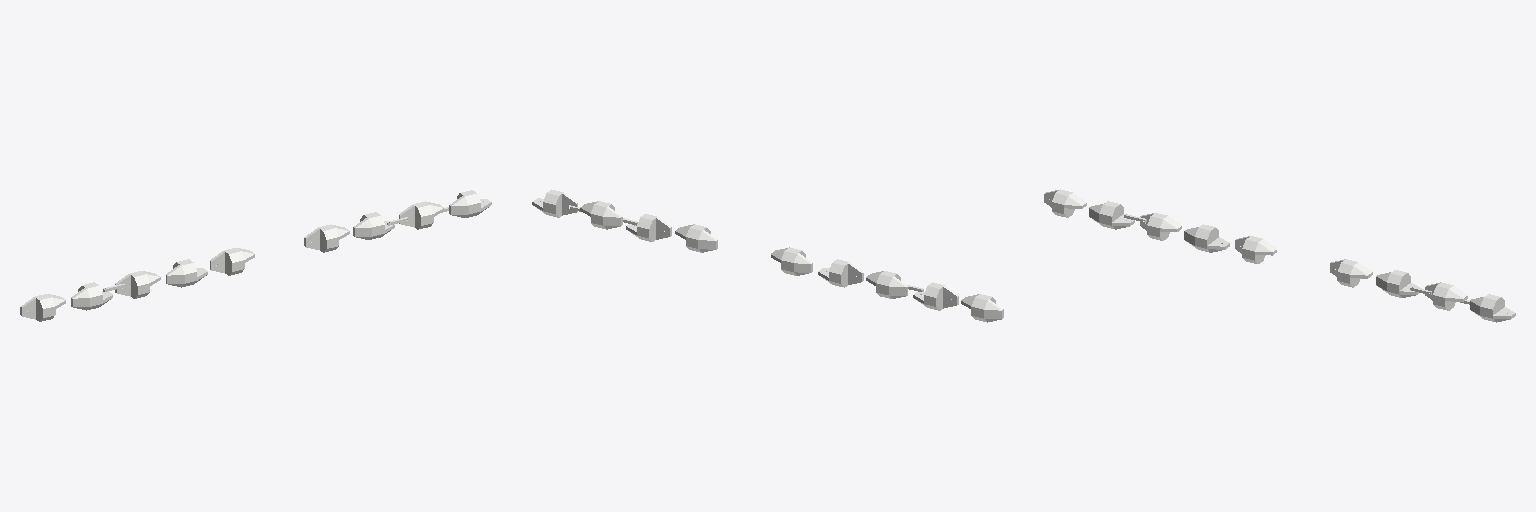
--- What the picture shows (computed from the rendered views, not written in the file) ---
The picture shows the robot from 3 angles, left to right: view 1: azimuth 30°, elevation 25°; view 2: azimuth 150°, elevation 25°; view 3: azimuth 330°, elevation 25°; orthographic projection.
Robot: NEKEespelhado — 19 links, 18 joints (18 revolute); root link base_link; default pose: every joint at zero.
Visible links, largest first — view 1: base_link, modulo5, modulo7, modulo3, modulo9, modulo10, modulo4, modulo2, modulo8; view 2: modulo4, modulo2, modulo8, base_link, modulo7, modulo5, modulo9, modulo3, modulo10; view 3: modulo4, modulo10, modulo2, modulo8, modulo7, base_link, modulo5, modulo9, modulo3.
Link boxes in pixels (box(x1,y1,x2,y2)): base_link: box(20, 294, 65, 321); modulo5: box(210, 248, 254, 275); modulo7: box(304, 224, 349, 252); modulo3: box(115, 271, 160, 298); modulo9: box(399, 201, 443, 229); modulo10: box(449, 190, 491, 217); modulo4: box(166, 259, 207, 287); modulo2: box(71, 282, 112, 310); modulo8: box(353, 212, 394, 239); modulo4: box(818, 259, 863, 287); modulo2: box(913, 282, 958, 310); modulo8: box(626, 214, 671, 241); base_link: box(961, 294, 1003, 322); modulo7: box(675, 224, 717, 252); modulo5: box(771, 247, 812, 275); modulo9: box(580, 201, 622, 229); modulo3: box(866, 271, 907, 298); modulo10: box(532, 189, 577, 217); modulo4: box(1184, 224, 1229, 252); modulo10: box(1470, 294, 1515, 322); modulo2: box(1089, 201, 1134, 229); modulo8: box(1376, 270, 1421, 297); modulo7: box(1330, 259, 1372, 287); base_link: box(1044, 189, 1086, 217); modulo5: box(1235, 236, 1276, 263); modulo9: box(1425, 282, 1467, 310); modulo3: box(1140, 213, 1181, 240).
Bounding box of the posed robot: 1.79 × 0.09 × 0.08 m (x, y, z).
Meshes: 19 distinct files referenced, 12 mesh visuals loaded (12 binary STL); not drawn: 7 (reference not matched to a file when rendering).

robot.urdf — NEKEespelhado:
<?xml version="1.0" encoding="utf-8"?>
<!-- This URDF was automatically created by SolidWorks to URDF Exporter! Originally created by Stephen Brawner ([email redacted]) 
     Commit Version: 1.6.0-4-g7f85cfe  Build Version: 1.6.7995.38578
     For more information, please see http://wiki.ros.org/sw_urdf_exporter -->
<robot
  name="NEKEespelhado">
  <link
    name="base_link">
    <inertial>
      <origin
        xyz="0.024 -0.00477264007478968 0.00286022630648331"
        rpy="0 0 0" />
      <mass
        value="0.385204158177987" />
      <inertia
        ixx="0.000283262951837511"
        ixy="2.10601156242849E-05"
        ixz="-2.1060115624285E-05"
        iyy="0.000268459177416828"
        iyz="6.8736177728217E-21"
        izz="0.000268459177416828" />
    </inertial>
    <visual>
      <origin
        xyz="0 0 0"
        rpy="0 0 0" />
      <geometry>
        <mesh
          filename="package://NEKEespelhado/meshes/base_link.STL" />
      </geometry>
      <material
        name="">
        <color
          rgba="0.964705882352941 0.964705882352941 0.952941176470588 1" />
      </material>
    </visual>
    <collision>
      <origin
        xyz="0 0 0"
        rpy="0 0 0" />
      <geometry>
        <mesh
          filename="package://NEKEespelhado/meshes/base_link.STL" />
      </geometry>
    </collision>
  </link>
  <link
    name="barra1">
    <inertial>
      <origin
        xyz="0.034 0.005 -8.67361737988404E-19"
        rpy="0 0 0" />
      <mass
        value="0.00743451332235384" />
      <inertia
        ixx="1.27348599328245E-07"
        ixy="-4.79075438103629E-24"
        ixz="-2.22951024477183E-23"
        iyy="3.67536602194712E-06"
        iyz="-3.50812812321156E-24"
        izz="3.67536602194712E-06" />
    </inertial>
    <visual>
      <origin
        xyz="0 0 0"
        rpy="0 0 0" />
      <geometry>
        <mesh
          filename="package://NEKEespelhado/meshes/barra1.STL" />
      </geometry>
      <material
        name="">
        <color
          rgba="0.964705882352941 0.964705882352941 0.952941176470588 1" />
      </material>
    </visual>
    <collision>
      <origin
        xyz="0 0 0"
        rpy="0 0 0" />
      <geometry>
        <mesh
          filename="package://NEKEespelhado/meshes/barra1.STL" />
      </geometry>
    </collision>
  </link>
  <joint
    name="yaw1"
    type="revolute">
    <origin
      xyz="0.08065 -0.0076329 -0.005"
      rpy="1.5708 0 0" />
    <parent
      link="base_link" />
    <child
      link="barra1" />
    <axis
      xyz="0 1 0" />
    <limit
      lower="0"
      upper="0"
      effort="0"
      velocity="0" />
  </joint>
  <link
    name="modulo2">
    <inertial>
      <origin
        xyz="0.05665 -0.00286022630648332 0.00786022630648332"
        rpy="0 0 0" />
      <mass
        value="0.385204158177987" />
      <inertia
        ixx="0.000283262951837511"
        ixy="2.1060115624285E-05"
        ixz="2.1060115624285E-05"
        iyy="0.000268459177416828"
        iyz="-1.90014782821109E-21"
        izz="0.000268459177416828" />
    </inertial>
    <visual>
      <origin
        xyz="0 0 0"
        rpy="0 0 0" />
      <geometry>
        <mesh
          filename="package://NEKEespelhado/meshes/modulo2.STL" />
      </geometry>
      <material
        name="">
        <color
          rgba="0.964705882352941 0.964705882352941 0.952941176470588 1" />
      </material>
    </visual>
    <collision>
      <origin
        xyz="0 0 0"
        rpy="0 0 0" />
      <geometry>
        <mesh
          filename="package://NEKEespelhado/meshes/modulo2.STL" />
      </geometry>
    </collision>
  </link>
  <joint
    name="pitch1"
    type="revolute">
    <origin
      xyz="0.068 0.005 -0.005"
      rpy="0 0 0" />
    <parent
      link="barra1" />
    <child
      link="modulo2" />
    <axis
      xyz="0 0 1" />
    <limit
      lower="0"
      upper="0"
      effort="0"
      velocity="0" />
  </joint>
  <link
    name="barra2">
    <inertial>
      <origin
        xyz="0.034 -0.005 -8.67361737988404E-19"
        rpy="0 0 0" />
      <mass
        value="0.00743451332235383" />
      <inertia
        ixx="1.27348599328245E-07"
        ixy="1.03294178992559E-22"
        ixz="-8.77263813703699E-23"
        iyy="3.67536602194712E-06"
        iyz="8.82325986723229E-24"
        izz="3.67536602194712E-06" />
    </inertial>
    <visual>
      <origin
        xyz="0 0 0"
        rpy="0 0 0" />
      <geometry>
        <mesh
          filename="package://NEKEespelhado/meshes/barra2.STL" />
      </geometry>
      <material
        name="">
        <color
          rgba="0.964705882352941 0.964705882352941 0.952941176470588 1" />
      </material>
    </visual>
    <collision>
      <origin
        xyz="0 0 0"
        rpy="0 0 0" />
      <geometry>
        <mesh
          filename="package://NEKEespelhado/meshes/barra2.STL" />
      </geometry>
    </collision>
  </link>
  <joint
    name="yaw2"
    type="revolute">
    <origin
      xyz="0.1133 0.005 0.005"
      rpy="0 0 0" />
    <parent
      link="modulo2" />
    <child
      link="barra2" />
    <axis
      xyz="0 1 0" />
    <limit
      lower="0"
      upper="0"
      effort="0"
      velocity="0" />
  </joint>
  <link
    name="modulo3">
    <inertial>
      <origin
        xyz="0.05665 0.00286022630648331 -0.00786022630648332"
        rpy="0 0 0" />
      <mass
        value="0.385204158177987" />
      <inertia
        ixx="0.000283262951837511"
        ixy="-2.1060115624285E-05"
        ixz="-2.1060115624285E-05"
        iyy="0.000268459177416828"
        iyz="-1.0998271741934E-20"
        izz="0.000268459177416828" />
    </inertial>
    <visual>
      <origin
        xyz="0 0 0"
        rpy="0 0 0" />
      <geometry>
        <mesh
          filename="package://NEKEespelhado/meshes/modulo3.STL" />
      </geometry>
      <material
        name="">
        <color
          rgba="0.964705882352941 0.964705882352941 0.952941176470588 1" />
      </material>
    </visual>
    <collision>
      <origin
        xyz="0 0 0"
        rpy="0 0 0" />
      <geometry>
        <mesh
          filename="package://NEKEespelhado/meshes/modulo3.STL" />
      </geometry>
    </collision>
  </link>
  <joint
    name="pitch2"
    type="revolute">
    <origin
      xyz="0.068 -0.005 0.005"
      rpy="0 0 0" />
    <parent
      link="barra2" />
    <child
      link="modulo3" />
    <axis
      xyz="0 0 1" />
    <limit
      lower="0"
      upper="0"
      effort="0"
      velocity="0" />
  </joint>
  <link
    name="barra3">
    <inertial>
      <origin
        xyz="0.034 0.005 -8.67361737988404E-19"
        rpy="0 0 0" />
      <mass
        value="0.00743451332235383" />
      <inertia
        ixx="1.27348599328245E-07"
        ixy="1.03294178992559E-22"
        ixz="-8.80494987971485E-23"
        iyy="3.67536602194712E-06"
        iyz="8.82325986723229E-24"
        izz="3.67536602194712E-06" />
    </inertial>
    <visual>
      <origin
        xyz="0 0 0"
        rpy="0 0 0" />
      <geometry>
        <mesh
          filename="package://NEKEespelhado/meshes/barra3.STL" />
      </geometry>
      <material
        name="">
        <color
          rgba="0.964705882352941 0.964705882352941 0.952941176470588 1" />
      </material>
    </visual>
    <collision>
      <origin
        xyz="0 0 0"
        rpy="0 0 0" />
      <geometry>
        <mesh
          filename="package://NEKEespelhado/meshes/barra3.STL" />
      </geometry>
    </collision>
  </link>
  <joint
    name="yaw3"
    type="revolute">
    <origin
      xyz="0.1133 -0.005 -0.005"
      rpy="0 0 0" />
    <parent
      link="modulo3" />
    <child
      link="barra3" />
    <axis
      xyz="0 1 0" />
    <limit
      lower="0"
      upper="0"
      effort="0"
      velocity="0" />
  </joint>
  <link
    name="modulo4">
    <inertial>
      <origin
        xyz="0.0566500000000001 -0.00286022630648331 0.00786022630648332"
        rpy="0 0 0" />
      <mass
        value="0.385204158177987" />
      <inertia
        ixx="0.000283262951837511"
        ixy="2.10601156242849E-05"
        ixz="2.1060115624285E-05"
        iyy="0.000268459177416828"
        iyz="4.56198332687296E-21"
        izz="0.000268459177416828" />
    </inertial>
    <visual>
      <origin
        xyz="0 0 0"
        rpy="0 0 0" />
      <geometry>
        <mesh
          filename="package://NEKEespelhado/meshes/modulo4.STL" />
      </geometry>
      <material
        name="">
        <color
          rgba="0.964705882352941 0.964705882352941 0.952941176470588 1" />
      </material>
    </visual>
    <collision>
      <origin
        xyz="0 0 0"
        rpy="0 0 0" />
      <geometry>
        <mesh
          filename="package://NEKEespelhado/meshes/modulo4.STL" />
      </geometry>
    </collision>
  </link>
  <joint
    name="pitch3"
    type="revolute">
    <origin
      xyz="0.068 0.005 -0.005"
      rpy="0 0 0" />
    <parent
      link="barra3" />
    <child
      link="modulo4" />
    <axis
      xyz="0 0 1" />
    <limit
      lower="0"
      upper="0"
      effort="0"
      velocity="0" />
  </joint>
  <link
    name="barra4">
    <inertial>
      <origin
        xyz="0.034 -0.005 0"
        rpy="0 0 0" />
      <mass
        value="0.00743451332235385" />
      <inertia
        ixx="1.27348599328245E-07"
        ixy="-6.46234853557053E-24"
        ixz="-2.55262767155036E-23"
        iyy="3.67536602194713E-06"
        iyz="-5.31513174402073E-24"
        izz="3.67536602194713E-06" />
    </inertial>
    <visual>
      <origin
        xyz="0 0 0"
        rpy="0 0 0" />
      <geometry>
        <mesh
          filename="package://NEKEespelhado/meshes/barra4.STL" />
      </geometry>
      <material
        name="">
        <color
          rgba="0.964705882352941 0.964705882352941 0.952941176470588 1" />
      </material>
    </visual>
    <collision>
      <origin
        xyz="0 0 0"
        rpy="0 0 0" />
      <geometry>
        <mesh
          filename="package://NEKEespelhado/meshes/barra4.STL" />
      </geometry>
    </collision>
  </link>
  <joint
    name="yaw4"
    type="revolute">
    <origin
      xyz="0.1133 0.005 0.005"
      rpy="0 0 0" />
    <parent
      link="modulo4" />
    <child
      link="barra4" />
    <axis
      xyz="0 1 0" />
    <limit
      lower="0"
      upper="0"
      effort="0"
      velocity="0" />
  </joint>
  <link
    name="modulo5">
    <inertial>
      <origin
        xyz="0.05665 0.00286022630648331 -0.00786022630648332"
        rpy="0 0 0" />
      <mass
        value="0.385204158177987" />
      <inertia
        ixx="0.000283262951837511"
        ixy="-2.10601156242851E-05"
        ixz="-2.10601156242849E-05"
        iyy="0.000268459177416828"
        iyz="-8.65454965661702E-21"
        izz="0.000268459177416828" />
    </inertial>
    <visual>
      <origin
        xyz="0 0 0"
        rpy="0 0 0" />
      <geometry>
        <mesh
          filename="package://NEKEespelhado/meshes/modulo5.STL" />
      </geometry>
      <material
        name="">
        <color
          rgba="0.964705882352941 0.964705882352941 0.952941176470588 1" />
      </material>
    </visual>
    <collision>
      <origin
        xyz="0 0 0"
        rpy="0 0 0" />
      <geometry>
        <mesh
          filename="package://NEKEespelhado/meshes/modulo5.STL" />
      </geometry>
    </collision>
  </link>
  <joint
    name="pitch4"
    type="revolute">
    <origin
      xyz="0.068 -0.005 0.005"
      rpy="0 0 0" />
    <parent
      link="barra4" />
    <child
      link="modulo5" />
    <axis
      xyz="0 0 1" />
    <limit
      lower="0"
      upper="0"
      effort="0"
      velocity="0" />
  </joint>
  <link
    name="barra5">
    <inertial>
      <origin
        xyz="0.034 0.005 0"
        rpy="0 0 0" />
      <mass
        value="0.00743451332235385" />
      <inertia
        ixx="1.27348599328245E-07"
        ixy="-6.46234853557053E-24"
        ixz="-2.58493941422821E-23"
        iyy="3.67536602194713E-06"
        iyz="-5.31513174402073E-24"
        izz="3.67536602194713E-06" />
    </inertial>
    <visual>
      <origin
        xyz="0 0 0"
        rpy="0 0 0" />
      <geometry>
        <mesh
          filename="package://NEKEespelhado/meshes/barra5.STL" />
      </geometry>
      <material
        name="">
        <color
          rgba="0.964705882352941 0.964705882352941 0.952941176470588 1" />
      </material>
    </visual>
    <collision>
      <origin
        xyz="0 0 0"
        rpy="0 0 0" />
      <geometry>
        <mesh
          filename="package://NEKEespelhado/meshes/barra5.STL" />
      </geometry>
    </collision>
  </link>
  <joint
    name="yaw5"
    type="revolute">
    <origin
      xyz="0.1133 -0.005 -0.005"
      rpy="0 0 0" />
    <parent
      link="modulo5" />
    <child
      link="barra5" />
    <axis
      xyz="0 1 0" />
    <limit
      lower="0"
      upper="0"
      effort="0"
      velocity="0" />
  </joint>
  <link
    name="modulo6">
    <inertial>
      <origin
        xyz="0.05665 -0.00286022630648331 0.00786022630648332"
        rpy="0 0 0" />
      <mass
        value="0.385204158177987" />
      <inertia
        ixx="0.000283262951837511"
        ixy="2.10601156242849E-05"
        ixz="2.1060115624285E-05"
        iyy="0.000268459177416828"
        iyz="-2.41678365154725E-21"
        izz="0.000268459177416828" />
    </inertial>
    <visual>
      <origin
        xyz="0 0 0"
        rpy="0 0 0" />
      <geometry>
        <mesh
          filename="package://NEKEespelhado/meshes/modulo6.STL" />
      </geometry>
      <material
        name="">
        <color
          rgba="0.964705882352941 0.964705882352941 0.952941176470588 1" />
      </material>
    </visual>
    <collision>
      <origin
        xyz="0 0 0"
        rpy="0 0 0" />
      <geometry>
        <mesh
          filename="package://NEKEespelhado/meshes/modulo6.STL" />
      </geometry>
    </collision>
  </link>
  <joint
    name="pitch5"
    type="revolute">
    <origin
      xyz="0.068 0.005 -0.005"
      rpy="0 0 0" />
    <parent
      link="barra5" />
    <child
      link="modulo6" />
    <axis
      xyz="0 0 1" />
    <limit
      lower="0"
      upper="0"
      effort="0"
      velocity="0" />
  </joint>
  <link
    name="barra6">
    <inertial>
      <origin
        xyz="0.034 -0.005 0"
        rpy="0 0 0" />
      <mass
        value="0.00743451332235385" />
      <inertia
        ixx="1.27348599328245E-07"
        ixy="-6.46234853557053E-24"
        ixz="-2.58493941422821E-23"
        iyy="3.67536602194713E-06"
        iyz="-5.31513174402073E-24"
        izz="3.67536602194713E-06" />
    </inertial>
    <visual>
      <origin
        xyz="0 0 0"
        rpy="0 0 0" />
      <geometry>
        <mesh
          filename="package://NEKEespelhado/meshes/barra6.STL" />
      </geometry>
      <material
        name="">
        <color
          rgba="0.964705882352941 0.964705882352941 0.952941176470588 1" />
      </material>
    </visual>
    <collision>
      <origin
        xyz="0 0 0"
        rpy="0 0 0" />
      <geometry>
        <mesh
          filename="package://NEKEespelhado/meshes/barra6.STL" />
      </geometry>
    </collision>
  </link>
  <joint
    name="yaw6"
    type="revolute">
    <origin
      xyz="0.1133 0.005 0.005"
      rpy="0 0 0" />
    <parent
      link="modulo6" />
    <child
      link="barra6" />
    <axis
      xyz="0 1 0" />
    <limit
      lower="0"
      upper="0"
      effort="0"
      velocity="0" />
  </joint>
  <link
    name="modulo7">
    <inertial>
      <origin
        xyz="0.0566500000000001 0.00286022630648331 -0.00786022630648332"
        rpy="0 0 0" />
      <mass
        value="0.385204158177987" />
      <inertia
        ixx="0.000283262951837511"
        ixy="-2.10601156242851E-05"
        ixz="-2.1060115624285E-05"
        iyy="0.000268459177416828"
        iyz="-2.43659556103781E-21"
        izz="0.000268459177416828" />
    </inertial>
    <visual>
      <origin
        xyz="0 0 0"
        rpy="0 0 0" />
      <geometry>
        <mesh
          filename="package://NEKEespelhado/meshes/modulo7.STL" />
      </geometry>
      <material
        name="">
        <color
          rgba="0.964705882352941 0.964705882352941 0.952941176470588 1" />
      </material>
    </visual>
    <collision>
      <origin
        xyz="0 0 0"
        rpy="0 0 0" />
      <geometry>
        <mesh
          filename="package://NEKEespelhado/meshes/modulo7.STL" />
      </geometry>
    </collision>
  </link>
  <joint
    name="pitch6"
    type="revolute">
    <origin
      xyz="0.068 -0.005 0.005"
      rpy="0 0 0" />
    <parent
      link="barra6" />
    <child
      link="modulo7" />
    <axis
      xyz="0 0 1" />
    <limit
      lower="0"
      upper="0"
      effort="0"
      velocity="0" />
  </joint>
  <link
    name="barra7">
    <inertial>
      <origin
        xyz="0.034 0.005 0"
        rpy="0 0 0" />
      <mass
        value="0.00743451332235385" />
      <inertia
        ixx="1.27348599328245E-07"
        ixy="-6.46234853557053E-24"
        ixz="-2.55262767155036E-23"
        iyy="3.67536602194713E-06"
        iyz="-5.31513174402073E-24"
        izz="3.67536602194713E-06" />
    </inertial>
    <visual>
      <origin
        xyz="0 0 0"
        rpy="0 0 0" />
      <geometry>
        <mesh
          filename="package://NEKEespelhado/meshes/barra7.STL" />
      </geometry>
      <material
        name="">
        <color
          rgba="0.964705882352941 0.964705882352941 0.952941176470588 1" />
      </material>
    </visual>
    <collision>
      <origin
        xyz="0 0 0"
        rpy="0 0 0" />
      <geometry>
        <mesh
          filename="package://NEKEespelhado/meshes/barra7.STL" />
      </geometry>
    </collision>
  </link>
  <joint
    name="yaw7"
    type="revolute">
    <origin
      xyz="0.1133 -0.005 -0.005"
      rpy="0 0 0" />
    <parent
      link="modulo7" />
    <child
      link="barra7" />
    <axis
      xyz="0 1 0" />
    <limit
      lower="0"
      upper="0"
      effort="0"
      velocity="0" />
  </joint>
  <link
    name="modulo8">
    <inertial>
      <origin
        xyz="0.0566499999999999 -0.00286022630648332 0.00786022630648332"
        rpy="0 0 0" />
      <mass
        value="0.385204158177987" />
      <inertia
        ixx="0.000283262951837511"
        ixy="2.1060115624285E-05"
        ixz="2.1060115624285E-05"
        iyy="0.000268459177416828"
        iyz="-8.38455983358071E-21"
        izz="0.000268459177416828" />
    </inertial>
    <visual>
      <origin
        xyz="0 0 0"
        rpy="0 0 0" />
      <geometry>
        <mesh
          filename="package://NEKEespelhado/meshes/modulo8.STL" />
      </geometry>
      <material
        name="">
        <color
          rgba="0.964705882352941 0.964705882352941 0.952941176470588 1" />
      </material>
    </visual>
    <collision>
      <origin
        xyz="0 0 0"
        rpy="0 0 0" />
      <geometry>
        <mesh
          filename="package://NEKEespelhado/meshes/modulo8.STL" />
      </geometry>
    </collision>
  </link>
  <joint
    name="pitch7"
    type="revolute">
    <origin
      xyz="0.068 0.005 -0.005"
      rpy="0 0 0" />
    <parent
      link="barra7" />
    <child
      link="modulo8" />
    <axis
      xyz="0 0 1" />
    <limit
      lower="0"
      upper="0"
      effort="0"
      velocity="0" />
  </joint>
  <link
    name="barra8">
    <inertial>
      <origin
        xyz="0.034 -0.005 0"
        rpy="0 0 0" />
      <mass
        value="0.00743451332235384" />
      <inertia
        ixx="1.27348599328245E-07"
        ixy="-6.46234853557053E-24"
        ixz="-2.58493941422821E-23"
        iyy="3.67536602194713E-06"
        iyz="-5.31513174402073E-24"
        izz="3.67536602194713E-06" />
    </inertial>
    <visual>
      <origin
        xyz="0 0 0"
        rpy="0 0 0" />
      <geometry>
        <mesh
          filename="package://NEKEespelhado/meshes/barra8.STL" />
      </geometry>
      <material
        name="">
        <color
          rgba="0.964705882352941 0.964705882352941 0.952941176470588 1" />
      </material>
    </visual>
    <collision>
      <origin
        xyz="0 0 0"
        rpy="0 0 0" />
      <geometry>
        <mesh
          filename="package://NEKEespelhado/meshes/barra8.STL" />
      </geometry>
    </collision>
  </link>
  <joint
    name="yaw8"
    type="revolute">
    <origin
      xyz="0.1133 0.005 0.005"
      rpy="0 0 0" />
    <parent
      link="modulo8" />
    <child
      link="barra8" />
    <axis
      xyz="0 1 0" />
    <limit
      lower="0"
      upper="0"
      effort="0"
      velocity="0" />
  </joint>
  <link
    name="modulo9">
    <inertial>
      <origin
        xyz="0.0566499999999999 0.00286022630648331 -0.00786022630648333"
        rpy="0 0 0" />
      <mass
        value="0.385204158177987" />
      <inertia
        ixx="0.000283262951837511"
        ixy="-2.10601156242851E-05"
        ixz="-2.1060115624285E-05"
        iyy="0.000268459177416828"
        iyz="-1.05900951581111E-20"
        izz="0.000268459177416828" />
    </inertial>
    <visual>
      <origin
        xyz="0 0 0"
        rpy="0 0 0" />
      <geometry>
        <mesh
          filename="package://NEKEespelhado/meshes/modulo9.STL" />
      </geometry>
      <material
        name="">
        <color
          rgba="0.964705882352941 0.964705882352941 0.952941176470588 1" />
      </material>
    </visual>
    <collision>
      <origin
        xyz="0 0 0"
        rpy="0 0 0" />
      <geometry>
        <mesh
          filename="package://NEKEespelhado/meshes/modulo9.STL" />
      </geometry>
    </collision>
  </link>
  <joint
    name="pitch8"
    type="revolute">
    <origin
      xyz="0.068 -0.005 0.005"
      rpy="0 0 0" />
    <parent
      link="barra8" />
    <child
      link="modulo9" />
    <axis
      xyz="0 0 1" />
    <limit
      lower="0"
      upper="0"
      effort="0"
      velocity="0" />
  </joint>
  <link
    name="barra9">
    <inertial>
      <origin
        xyz="0.034 0.005 0"
        rpy="0 0 0" />
      <mass
        value="0.00743451332235385" />
      <inertia
        ixx="1.27348599328245E-07"
        ixy="-6.46234853557053E-24"
        ixz="-2.55262767155036E-23"
        iyy="3.67536602194713E-06"
        iyz="-5.31513174402073E-24"
        izz="3.67536602194713E-06" />
    </inertial>
    <visual>
      <origin
        xyz="0 0 0"
        rpy="0 0 0" />
      <geometry>
        <mesh
          filename="package://NEKEespelhado/meshes/barra9.STL" />
      </geometry>
      <material
        name="">
        <color
          rgba="0.964705882352941 0.964705882352941 0.952941176470588 1" />
      </material>
    </visual>
    <collision>
      <origin
        xyz="0 0 0"
        rpy="0 0 0" />
      <geometry>
        <mesh
          filename="package://NEKEespelhado/meshes/barra9.STL" />
      </geometry>
    </collision>
  </link>
  <joint
    name="yaw9"
    type="revolute">
    <origin
      xyz="0.1133 -0.005 -0.005"
      rpy="0 0 0" />
    <parent
      link="modulo9" />
    <child
      link="barra9" />
    <axis
      xyz="0 1 0" />
    <limit
      lower="0"
      upper="0"
      effort="0"
      velocity="0" />
  </joint>
  <link
    name="modulo10">
    <inertial>
      <origin
        xyz="0.0566499999999999 -0.00286022630648332 0.00786022630648332"
        rpy="0 0 0" />
      <mass
        value="0.385204158177987" />
      <inertia
        ixx="0.000283262951837511"
        ixy="2.1060115624285E-05"
        ixz="2.1060115624285E-05"
        iyy="0.000268459177416828"
        iyz="-8.28851674694461E-21"
        izz="0.000268459177416828" />
    </inertial>
    <visual>
      <origin
        xyz="0 0 0"
        rpy="0 0 0" />
      <geometry>
        <mesh
          filename="package://NEKEespelhado/meshes/modulo10.STL" />
      </geometry>
      <material
        name="">
        <color
          rgba="0.964705882352941 0.964705882352941 0.952941176470588 1" />
      </material>
    </visual>
    <collision>
      <origin
        xyz="0 0 0"
        rpy="0 0 0" />
      <geometry>
        <mesh
          filename="package://NEKEespelhado/meshes/modulo10.STL" />
      </geometry>
    </collision>
  </link>
  <joint
    name="pitch9"
    type="revolute">
    <origin
      xyz="0.068 0.005 -0.005"
      rpy="0 0 0" />
    <parent
      link="barra9" />
    <child
      link="modulo10" />
    <axis
      xyz="0 0 1" />
    <limit
      lower="0"
      upper="0"
      effort="0"
      velocity="0" />
  </joint>
</robot>
